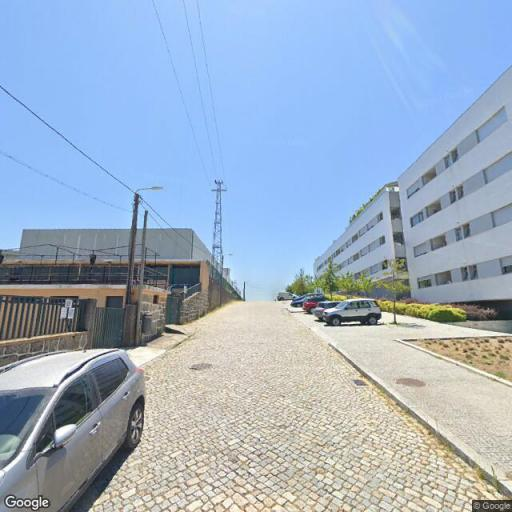ss_1: (209, 177, 229, 286)
